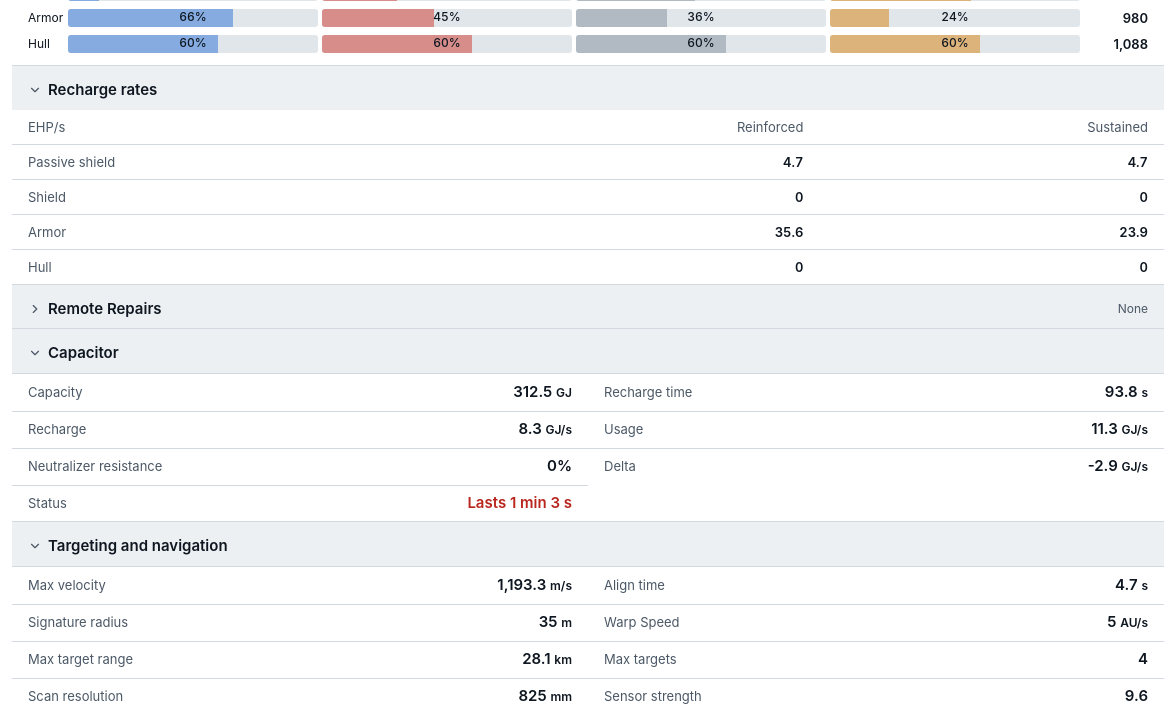
Scenario: StatsPage capacitor › panels collapse on click
The width and height of the screenshot is (1176, 711).
(page scrolled)
Click the button "Capacitor" at (83, 353), box [12,329,1164,373]
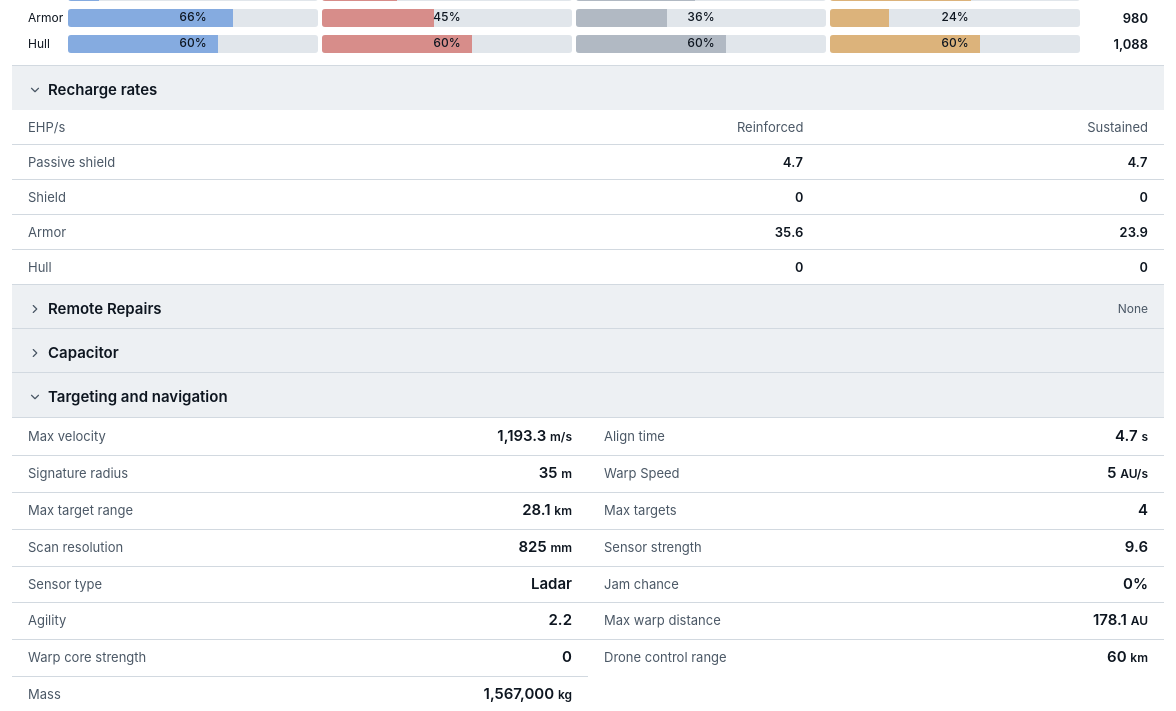
expect the button "Capacitor" is collapsed: met, box [12,329,1164,373]
